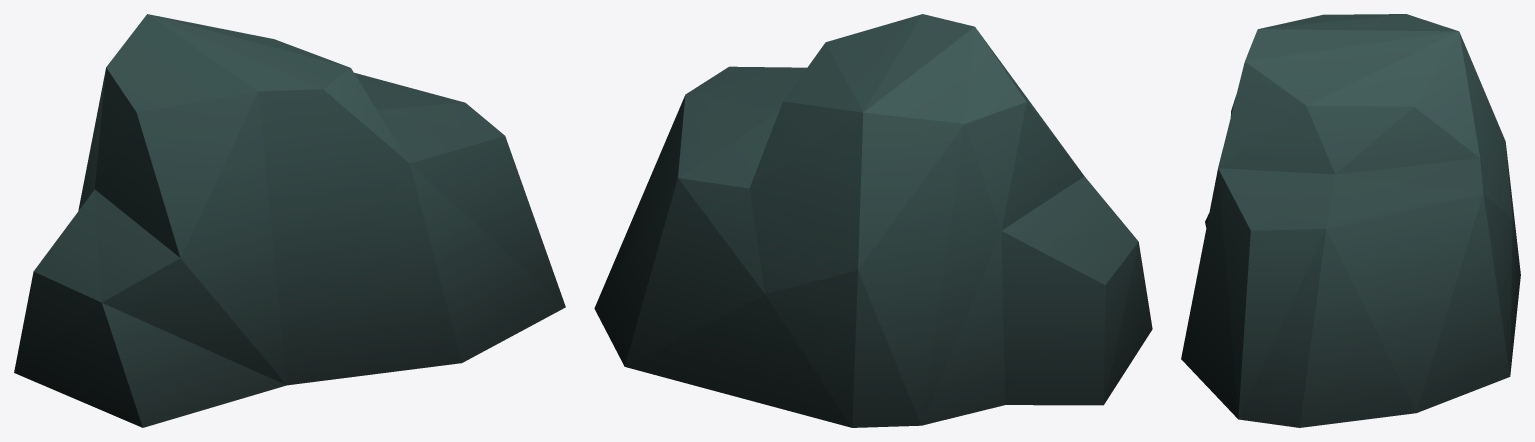
The model's file is SM_Rock_base_9.fbx.
3 renders of one model, left to right at view 1: azimuth 30°, elevation 25°; view 2: azimuth 150°, elevation 25°; view 3: azimuth 270°, elevation 25°, orthographic. The views are drawn at different scales.
Visible parts, largest first — view 1: Rock_base_9; view 2: Rock_base_9; view 3: Rock_base_9.
Boxes of the visible parts, x1,y1,x2,y2 form: Rock_base_9: (14,14,565,427); Rock_base_9: (594,14,1152,427); Rock_base_9: (1181,14,1520,427).
Size of the model in its own units: 463 by 248 by 297.
1 material, 1 textured.
